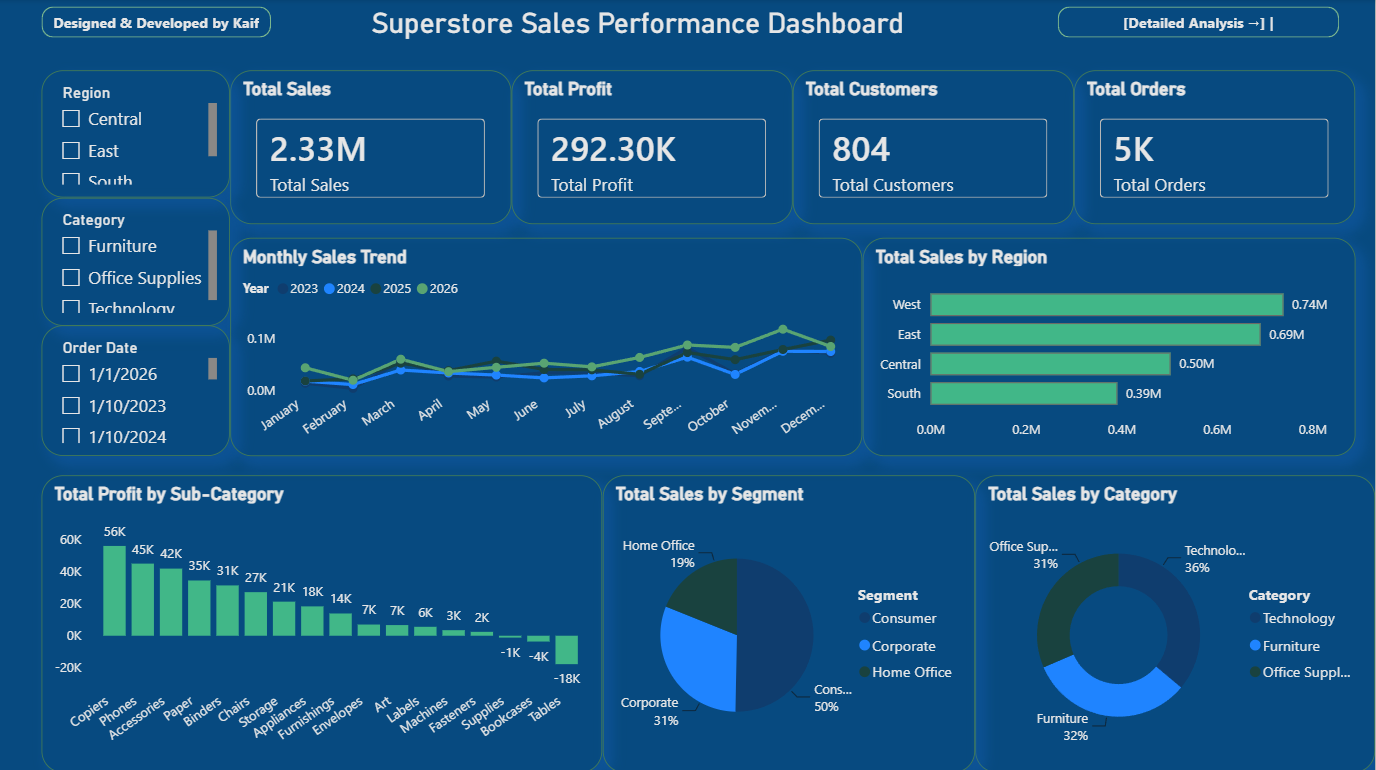

The dashboard page shown, as its layout file describes it:
{"tool":"powerbi","page":{"name":"Page 1","canvas":[1280,720],"ordinal":0},"visuals":[{"type":"cardVisual","title":"Total Sales","fields":{"Data":["public orders.Total Sales"]},"box":[215,66.7,261.7,143.3],"z":0},{"type":"cardVisual","title":"Total Profit","fields":{"Data":["public orders.Total Profit"]},"box":[476.7,66.7,261.7,143.3],"z":1000},{"type":"cardVisual","title":"Total Orders","fields":{"Data":["public orders.Total Orders"]},"box":[1000,66.7,261.7,143.3],"z":2000},{"type":"cardVisual","title":"Total Customers","fields":{"Data":["public orders.Total Customers"]},"box":[738.3,66.7,261.7,143.3],"z":3000},{"type":"clusteredBarChart","fields":{"Category":["public orders.Region"],"Y":["public orders.Total Sales"]},"box":[803.3,221.7,458.3,203.3],"z":4000},{"type":"donutChart","fields":{"Category":["public orders.Category"],"Y":["public orders.Total Sales"]},"box":[908.3,443.3,371.7,276.7],"z":5000},{"type":"clusteredColumnChart","fields":{"Category":["public orders.Sub-Category"],"Y":["public orders.Total Profit"]},"box":[40,443.3,521.7,276.7],"z":6000},{"type":"slicer","fields":{"Values":["public orders.Region"]},"box":[39.8,66.4,174.9,118.2],"z":7000},{"type":"slicer","fields":{"Values":["public orders.Category"]},"box":[39.8,184.6,174.9,119.4],"z":8000},{"type":"slicer","fields":{"Values":["public orders.Order Date"]},"box":[39.8,304,174.9,121.9],"z":9000},{"type":"lineChart","title":"Monthly Sales Trend","fields":{"Y":["public orders.Total Sales"],"Category":["public orders.Order Month.Variation.Date Hierarchy.Month","public orders.Order Month.Variation.Date Hierarchy.Day"],"Series":["public orders.Order Month.Variation.Date Hierarchy.Year"]},"box":[215,221.7,588.3,203.3],"z":10000},{"type":"pieChart","fields":{"Y":["public orders.Total Sales"],"Category":["public orders.Segment"]},"box":[561.7,443.3,346.7,276.7],"z":11000},{"type":"actionButton","box":[984.5,7.2,261.8,29],"z":12000},{"type":"actionButton","title":"Superstore Sales Performance Dashboard","box":[346.2,7.2,586.3,39.8],"z":13000},{"type":"actionButton","box":[39.8,7.2,213.5,29],"z":14000}]}

Visuals, with their boxes in screenshot pixels (x1, y1, x2, y2), scaled from the page's 1280x720 canvas onto the 1376x770 screenshot:
"Total Sales" cardVisual: box=[231, 71, 512, 225]
"Total Profit" cardVisual: box=[512, 71, 794, 225]
"Total Orders" cardVisual: box=[1075, 71, 1356, 225]
"Total Customers" cardVisual: box=[794, 71, 1075, 225]
clusteredBarChart - public orders.Region x public orders.Total Sales: box=[864, 237, 1356, 455]
donutChart - public orders.Category x public orders.Total Sales: box=[976, 474, 1375, 769]
clusteredColumnChart - public orders.Sub-Category x public orders.Total Profit: box=[43, 474, 604, 769]
slicer - public orders.Region: box=[43, 71, 231, 197]
slicer - public orders.Category: box=[43, 197, 231, 325]
slicer - public orders.Order Date: box=[43, 325, 231, 455]
"Monthly Sales Trend" lineChart: box=[231, 237, 864, 455]
pieChart - public orders.Total Sales x public orders.Segment: box=[604, 474, 977, 769]
actionButton: box=[1058, 8, 1340, 39]
"Superstore Sales Performance Dashboard" actionButton: box=[372, 8, 1002, 50]
actionButton: box=[43, 8, 272, 39]
